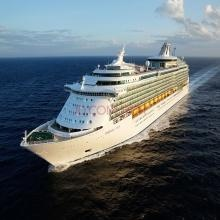youlun: (21, 35, 192, 169)
